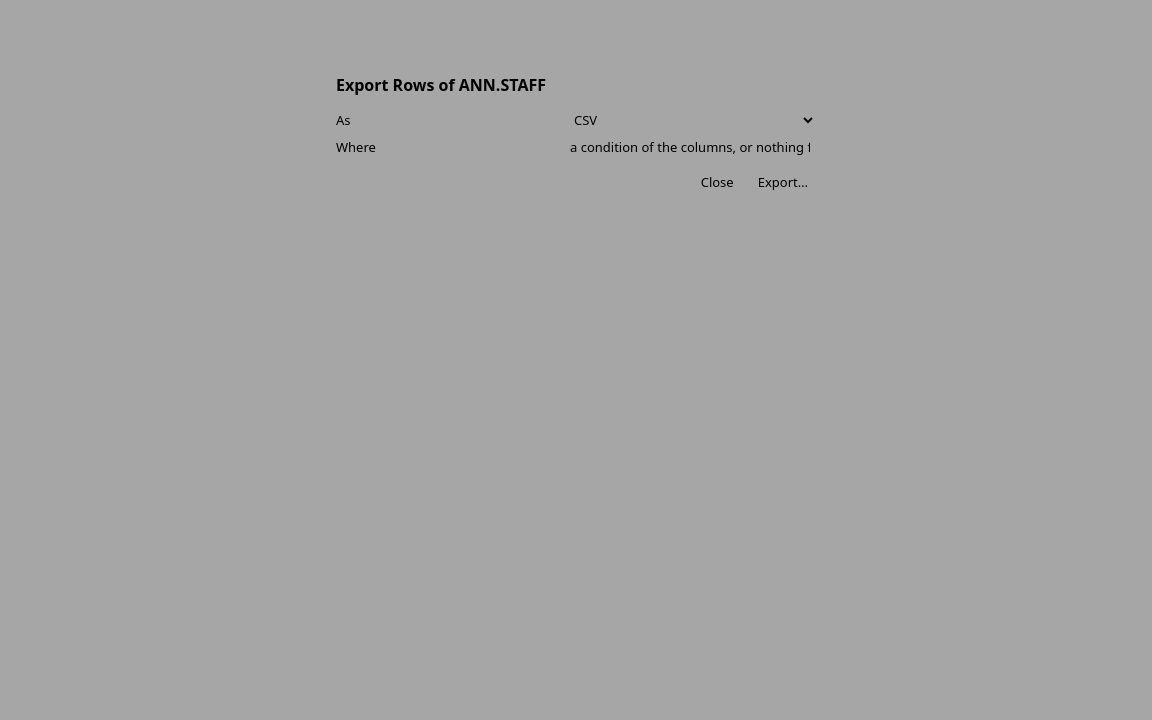
Test case: a table's actions › exports a table's rows, or those a condition keeps, to a file the dialog chooses [DESIGN] D43
The image size is (1152, 720).
Later steps or results of the test are not shown.
Select "Native rows" in the dropdown labelled "As" at {"x": 690, "y": 120}, box [564, 108, 816, 132]
Type "ID < 9" into the field labelled "Where".
click(690, 147); type("ID < 9")  # box [564, 136, 816, 158]
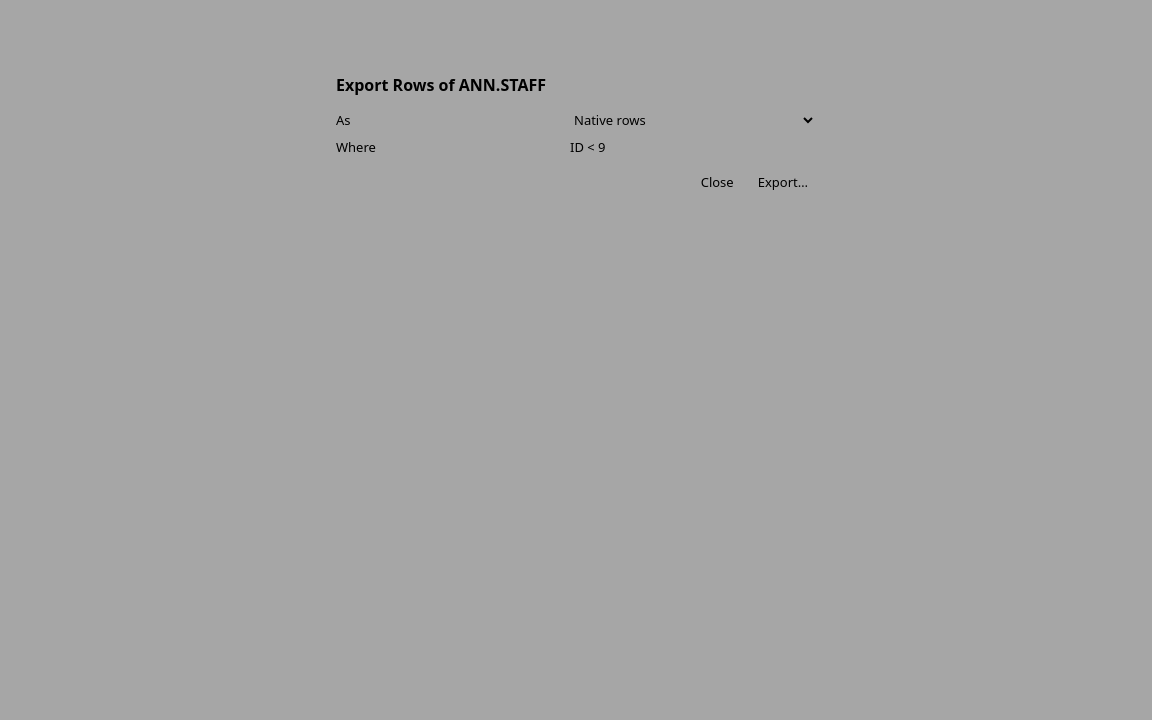
Click the button "Export…".
click(783, 182)  # box [750, 171, 816, 193]
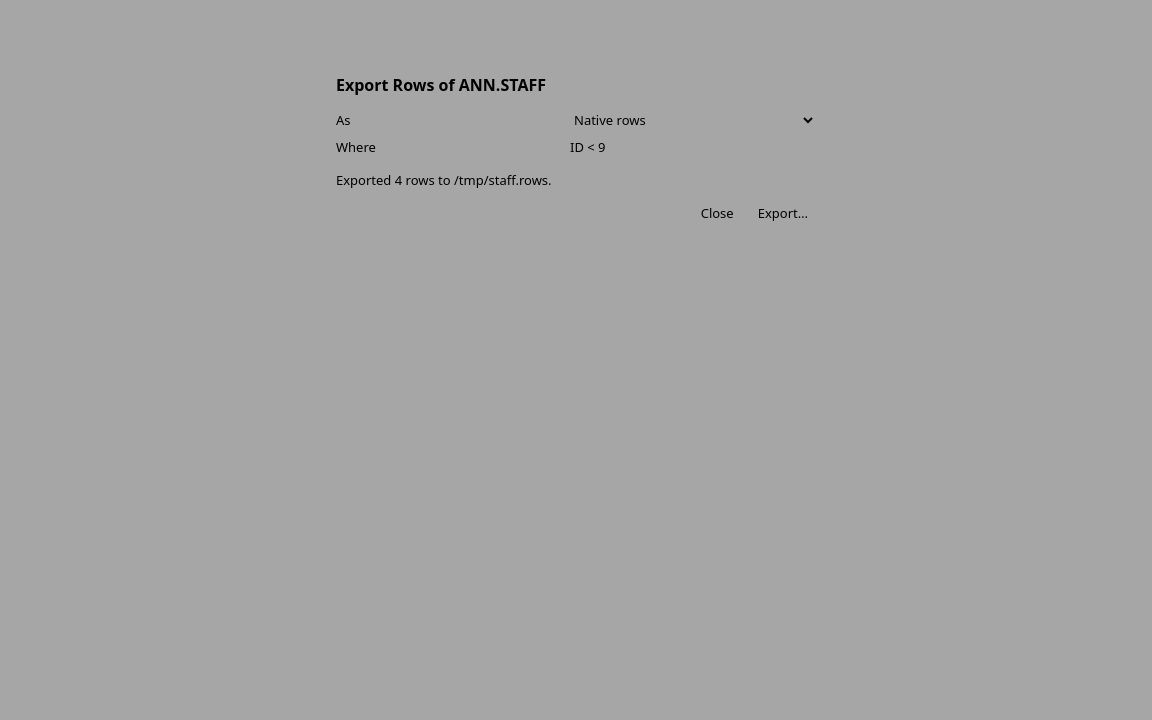
expect the text "Exported 4 rows to /tmp/staff.rows." is shown: met, box [336, 171, 552, 189]
Select "CSV" in the dropdown labelled "As" at {"x": 690, "y": 120}, box [564, 108, 816, 132]
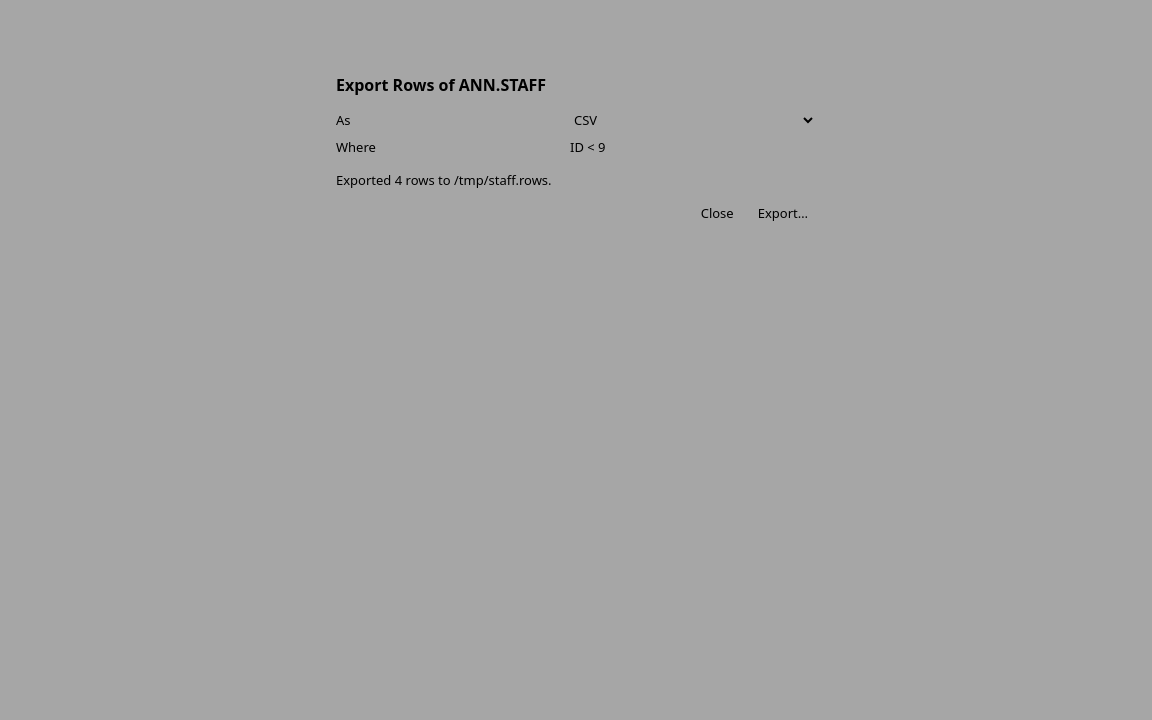
Click the button "Export…".
click(783, 214)  # box [750, 202, 816, 225]
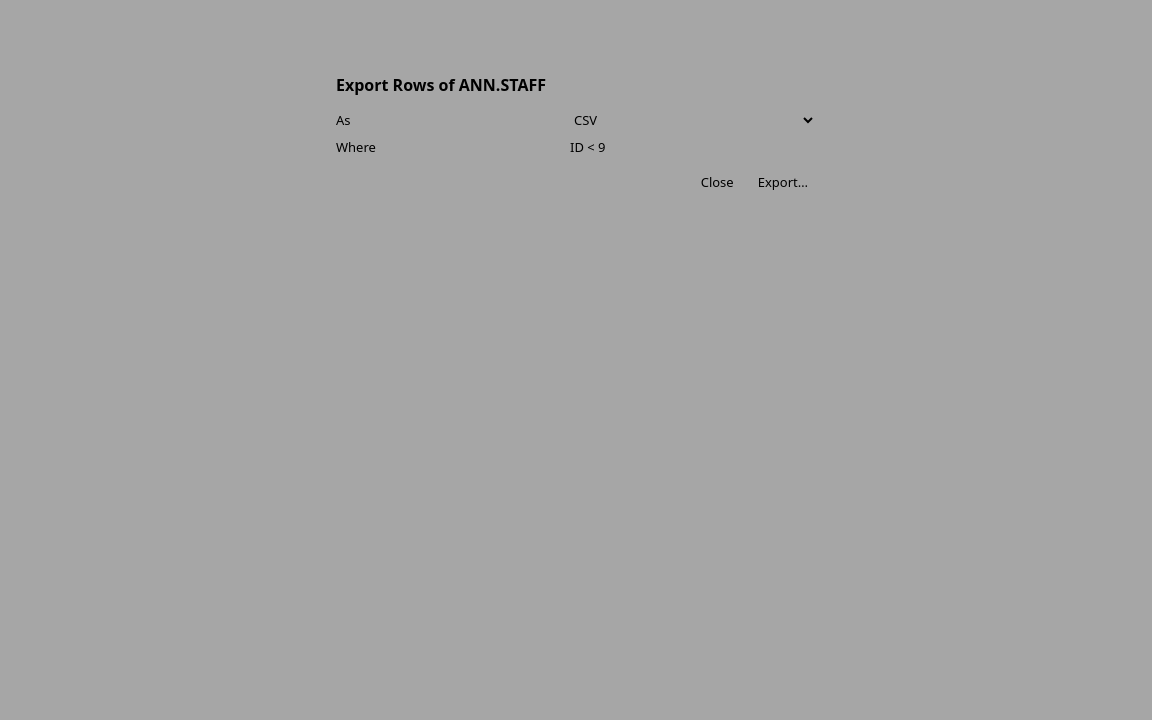
Click the button "Export…".
click(783, 182)  # box [750, 171, 816, 193]
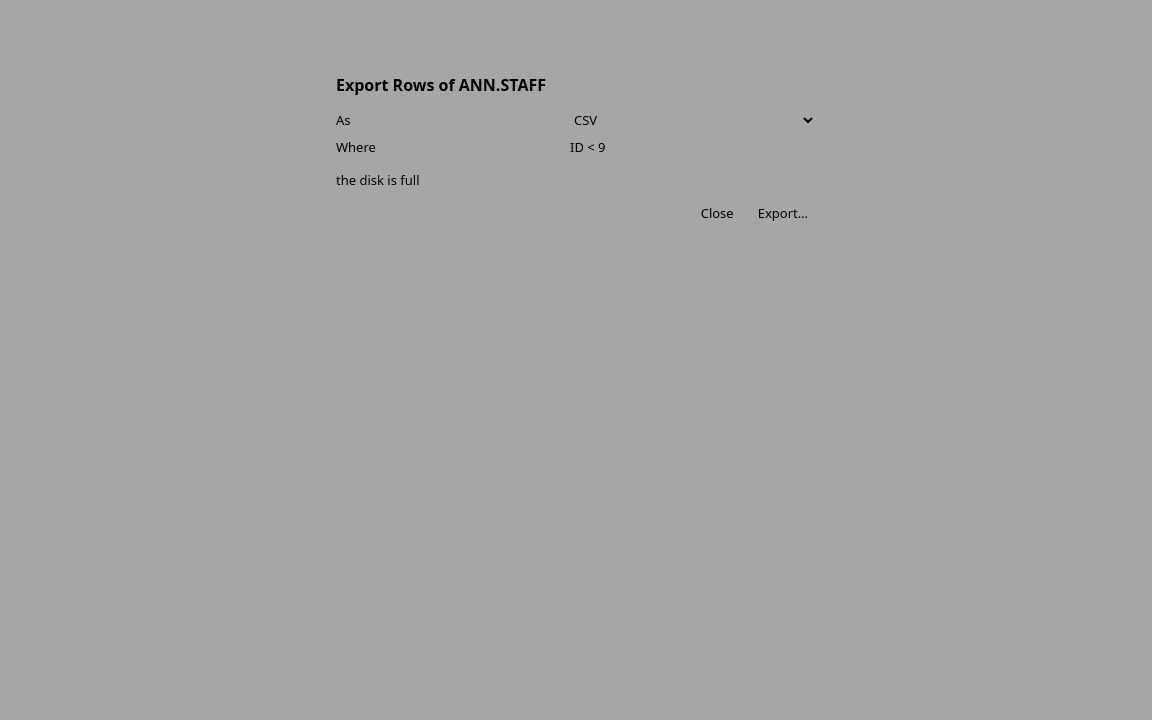
expect the text "the disk is full" is shown: met, box [336, 171, 420, 189]
Click the button "Export…".
click(783, 214)  # box [750, 202, 816, 225]
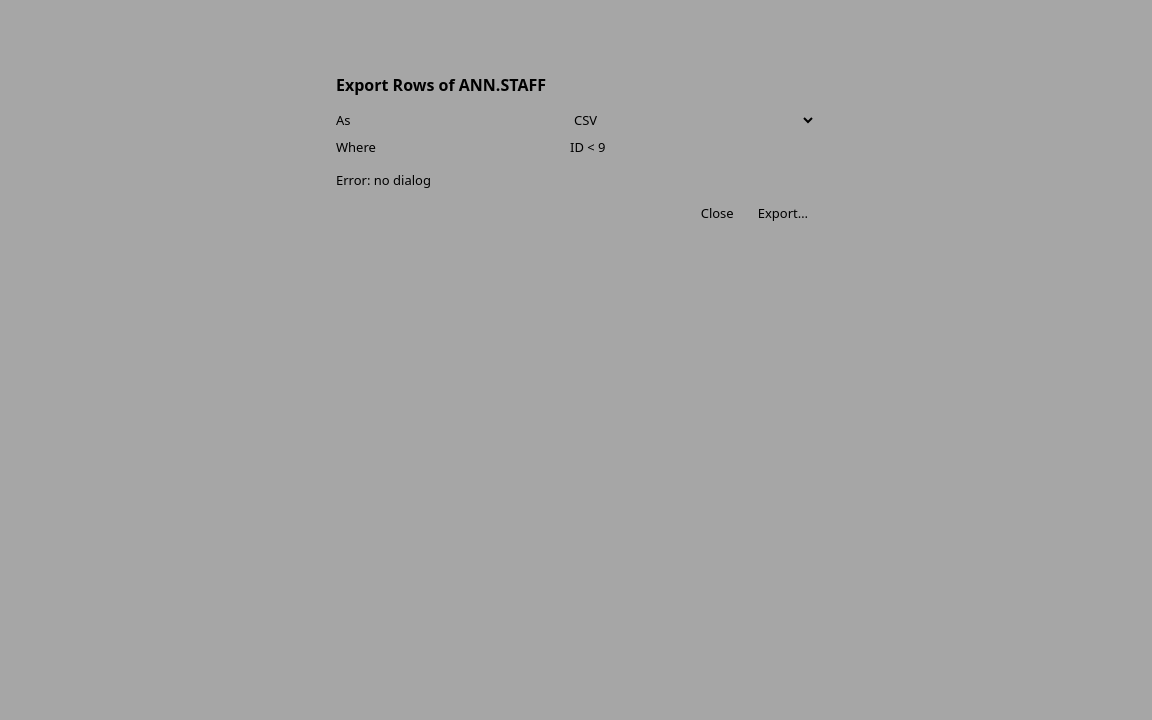
expect the text "Error: no dialog" is shown: met, box [336, 171, 431, 189]
